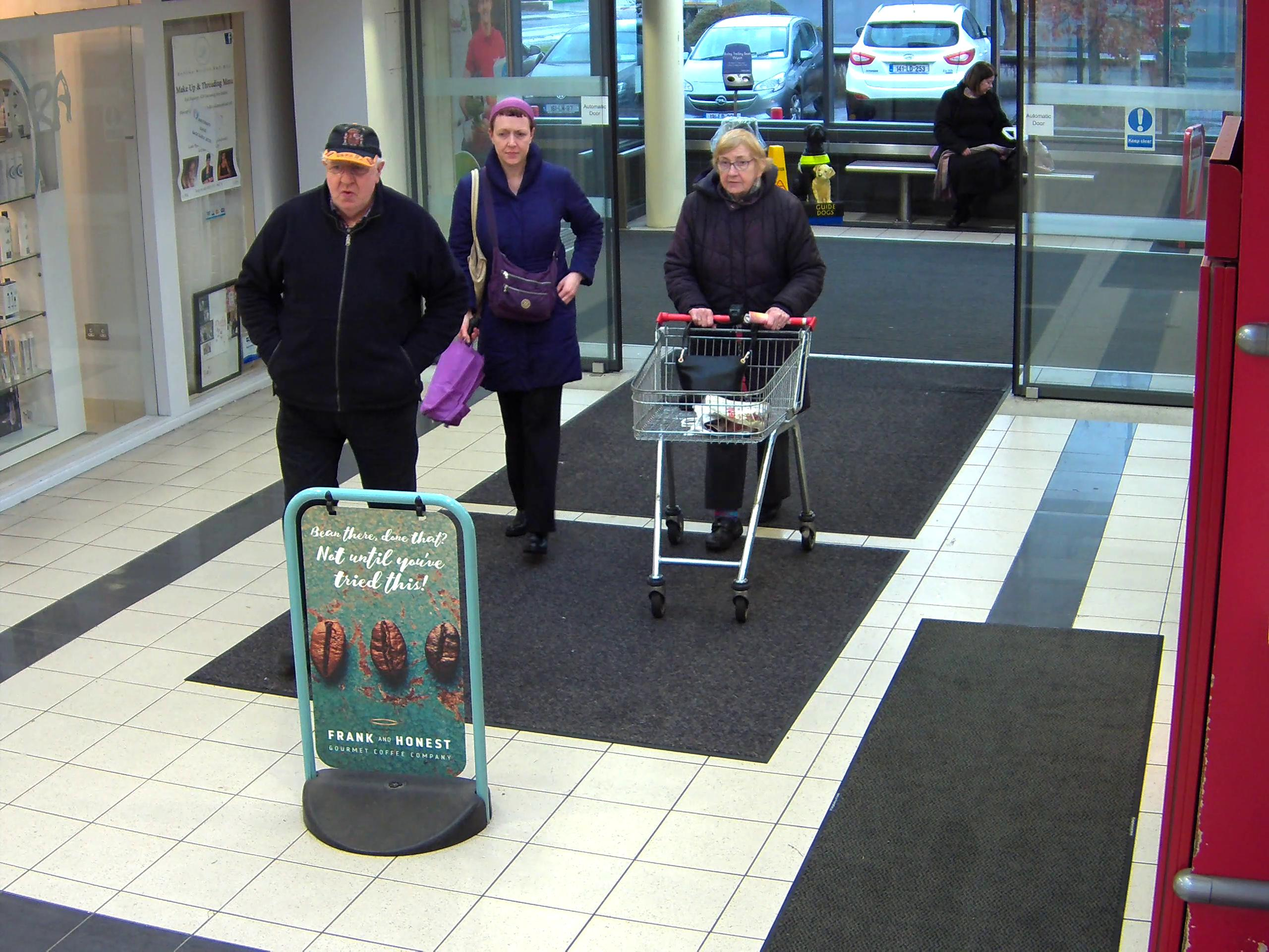backpack-or-handbag: (485, 249, 564, 324), (674, 347, 755, 407)
empty-shopping-bags: (684, 393, 770, 437)
empty-trolly: (632, 310, 817, 619)
person: (448, 95, 602, 551), (662, 131, 828, 551)
person-with-backpack-handbag: (448, 95, 603, 550)
person-with-basket-trolly-and-backpack-handbag: (631, 133, 827, 621)
